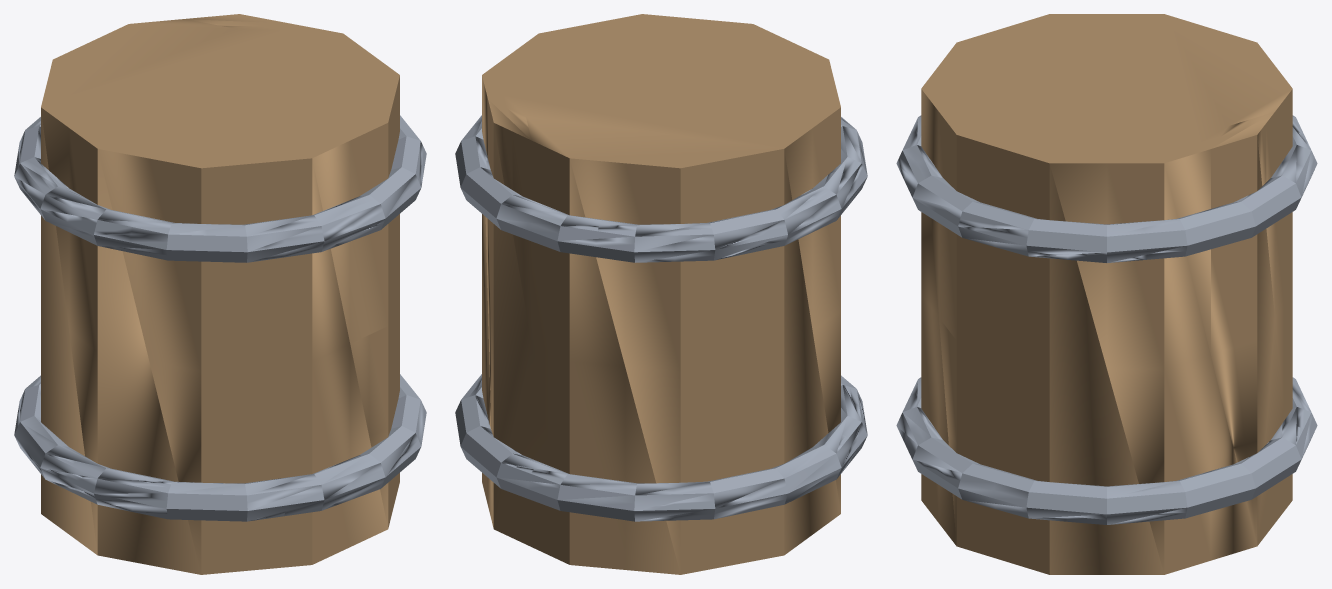
The model's file is barrel.glb.
3 views of the same model, side by side, from view 1: azimuth 30°, elevation 25°; view 2: azimuth 150°, elevation 25°; view 3: azimuth 270°, elevation 25° (orthographic).
Parts seen in each view (by area): view 1: BarrelBody; view 2: BarrelBody; view 3: BarrelBody.
Part boxes in pixels (box(x1,y1,x2,y2)): BarrelBody: box(14, 14, 426, 574); BarrelBody: box(455, 14, 867, 574); BarrelBody: box(896, 14, 1317, 574).
Size of the model in its own units: 1.02 by 1.1 by 1.02.
